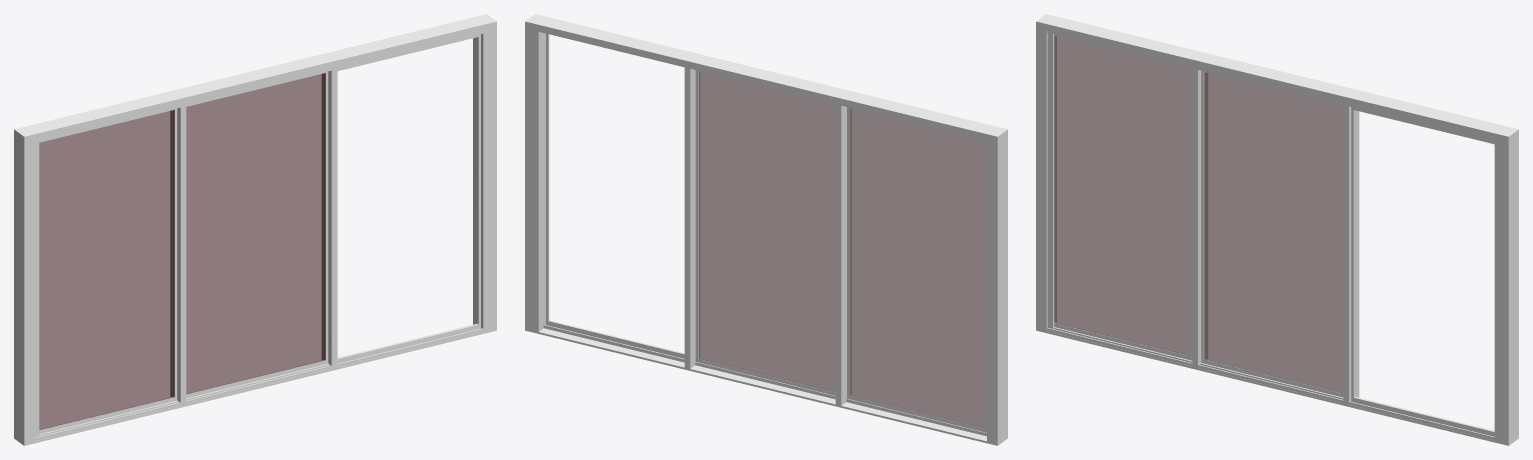
File: Wall With Windows Set 5.FBX
3 renders of one model, left to right at view 1: azimuth 30°, elevation 25°; view 2: azimuth 150°, elevation 25°; view 3: azimuth 330°, elevation 25°, orthographic.
Parts seen in each view (by area): view 1: wall with windows set 5; view 2: wall with windows set 5; view 3: wall with windows set 5.
Part boxes in pixels (left/top/right/bottom): wall with windows set 5: left=14, top=14, right=496, bottom=445; wall with windows set 5: left=525, top=14, right=1007, bottom=445; wall with windows set 5: left=1036, top=14, right=1518, bottom=445.
Size of the model in its own units: 400 by 250 by 15.
